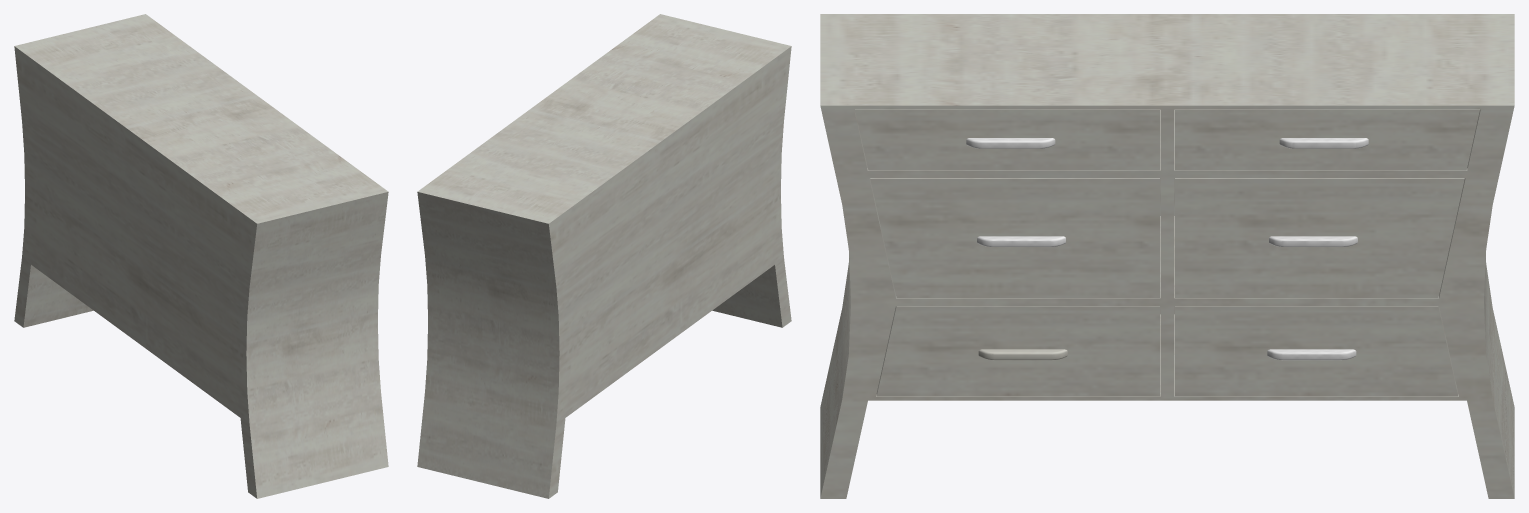
The model's file is dresser.glb.
3 views of the same model, side by side, from view 1: azimuth 30°, elevation 25°; view 2: azimuth 150°, elevation 25°; view 3: azimuth 270°, elevation 25° (orthographic). The views are drawn at different scales.
Parts seen in each view (by area): view 1: dresser; view 2: dresser; view 3: dresser, latch_3, latch_4, latch_5, latch_6, latch_1, latch_2.
Part boxes in pixels (x1=…): dresser: x1=14, y1=14, x2=388, y2=498; dresser: x1=417, y1=14, x2=791, y2=498; dresser: x1=820, y1=14, x2=1514, y2=498; latch_3: x1=870, y1=178, x2=1159, y2=297; latch_4: x1=1175, y1=178, x2=1464, y2=297; latch_5: x1=876, y1=306, x2=1159, y2=396; latch_6: x1=1175, y1=306, x2=1458, y2=396; latch_1: x1=855, y1=109, x2=1159, y2=170; latch_2: x1=1175, y1=109, x2=1479, y2=170.
Bounding box in the file's own units: 0.53 × 1 × 1.6.
1 material, 1 textured.
